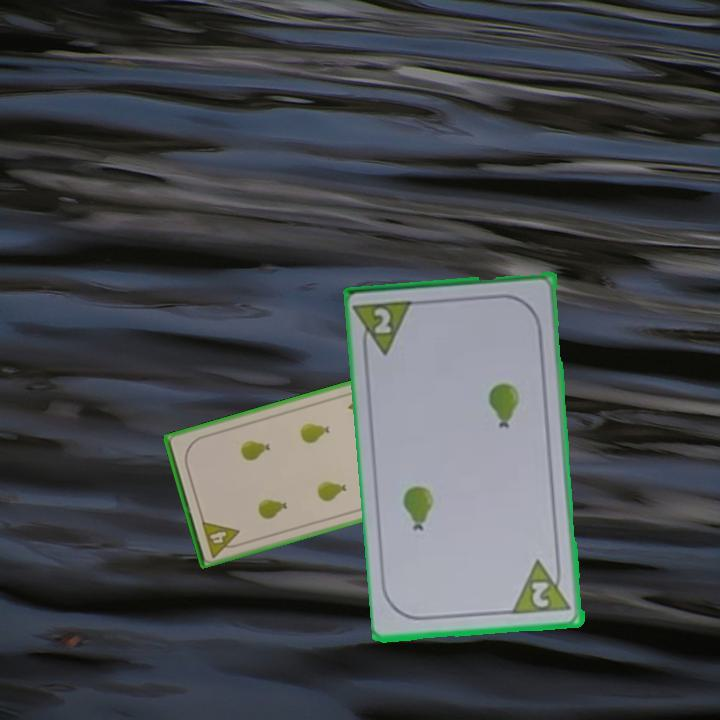2p: (510, 555, 575, 618), (353, 297, 418, 360)
4p: (198, 517, 245, 560)
